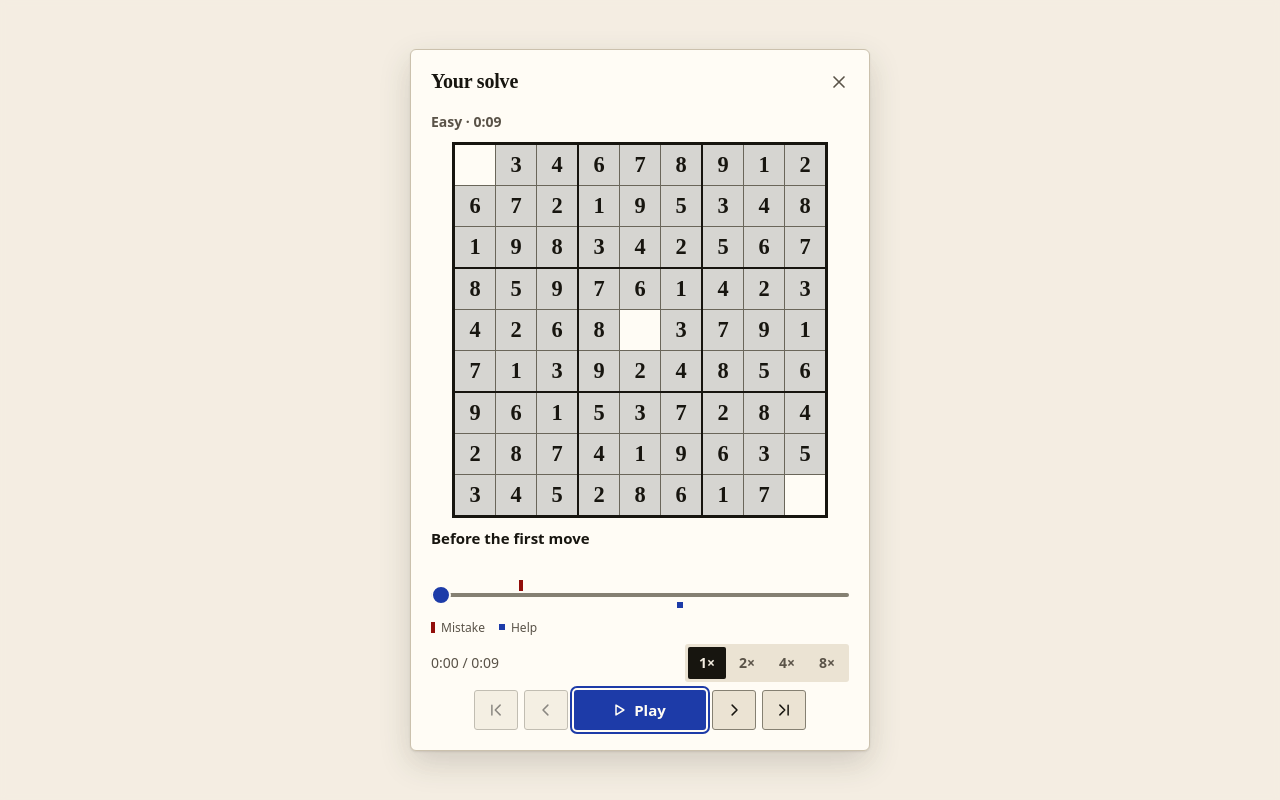
it: PlaybackDialog › jumps to the solve and back to the start
Click the button named "To the solve".
click(784, 710)  # box [762, 690, 806, 730]
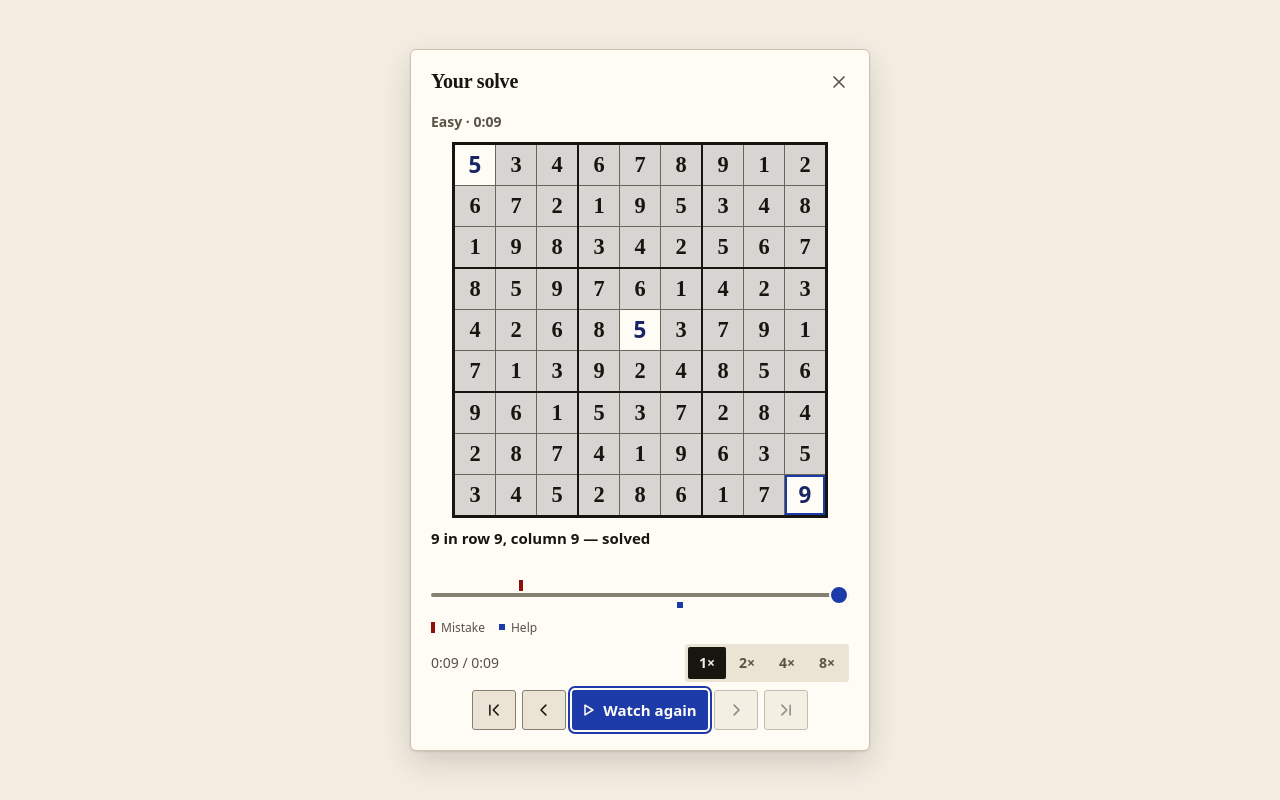
Expected: the text "9 in row 9, column 9 — solved" is shown, [431, 528, 650, 548]
Click the button named "To the start".
click(494, 710)  # box [472, 690, 516, 730]
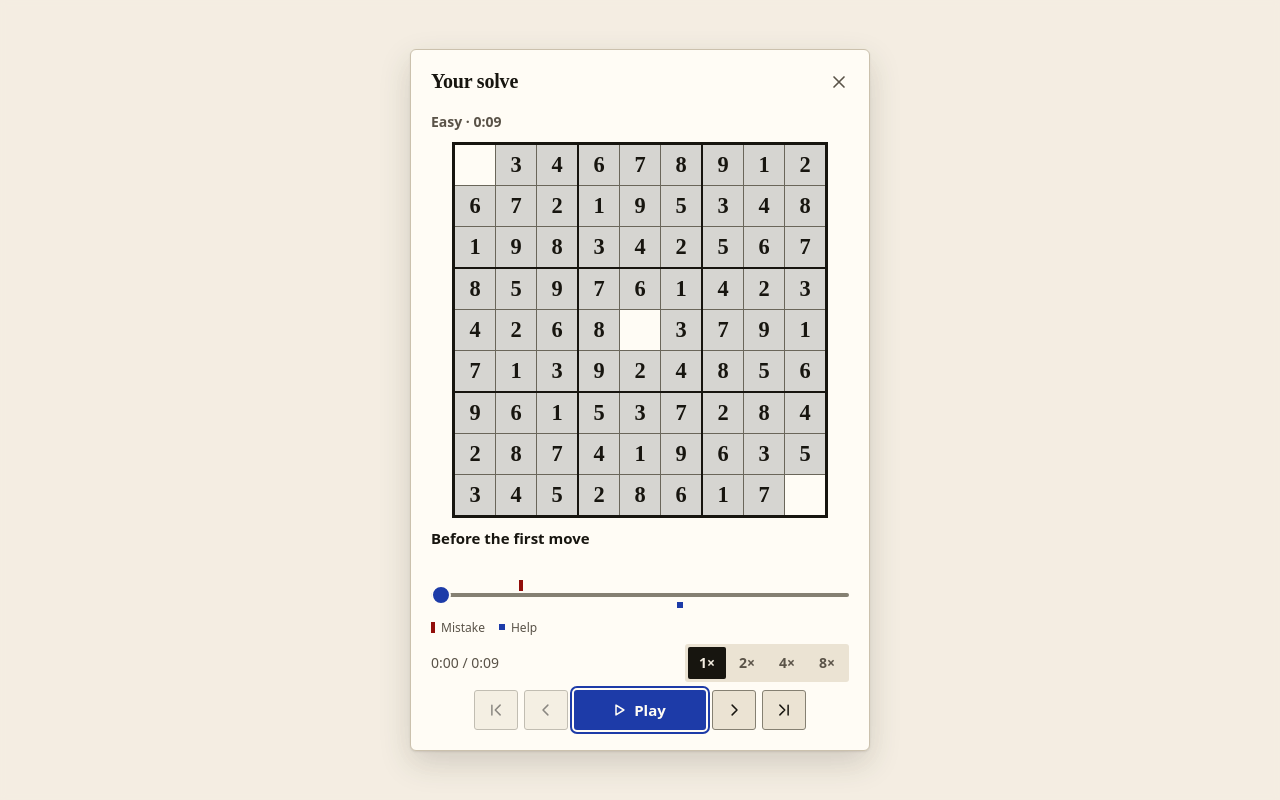
Expected: the text "Before the first move" is shown, [431, 528, 590, 548]
